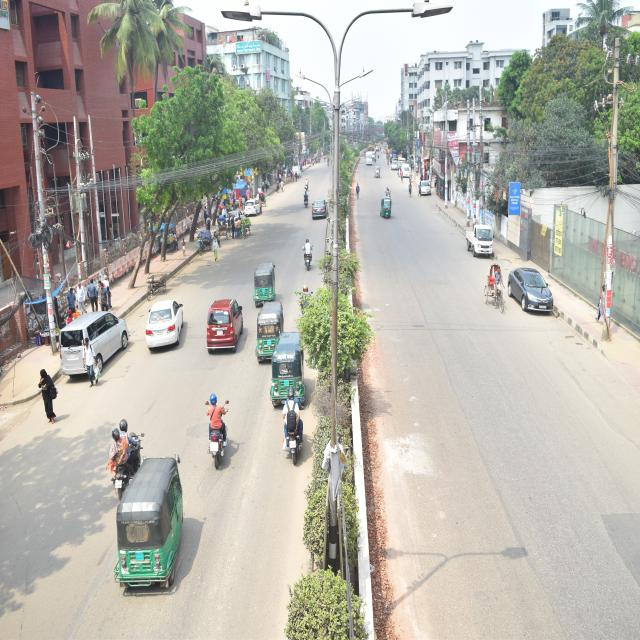car: (9, 297, 138, 382), (503, 248, 565, 339), (140, 284, 195, 362), (203, 287, 251, 362), (233, 168, 266, 236), (217, 199, 249, 255), (304, 191, 338, 234), (416, 170, 434, 202), (356, 147, 379, 171), (399, 162, 415, 187)
motorbike: (91, 412, 167, 514), (182, 383, 246, 500), (269, 374, 324, 470), (297, 227, 322, 280), (382, 179, 397, 220), (299, 173, 315, 208)
pickup-van: (462, 210, 502, 272)
